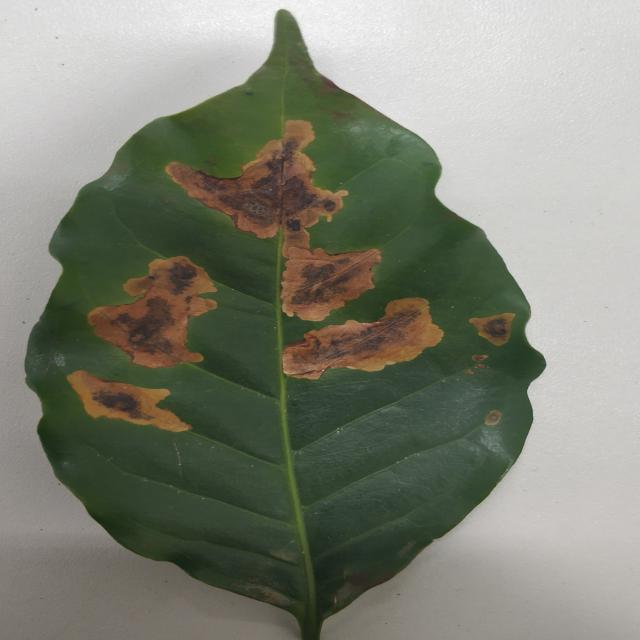Plaga-Minador: (22, 10, 547, 640)
